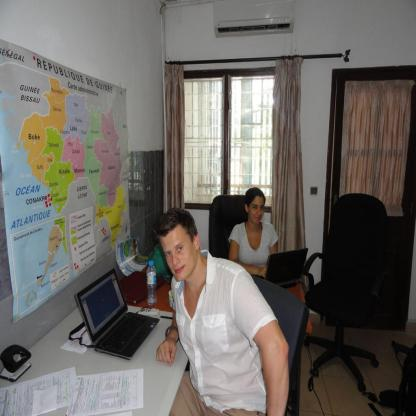board: (70, 268, 158, 358), (264, 249, 308, 286), (120, 270, 165, 303), (144, 261, 158, 305)
